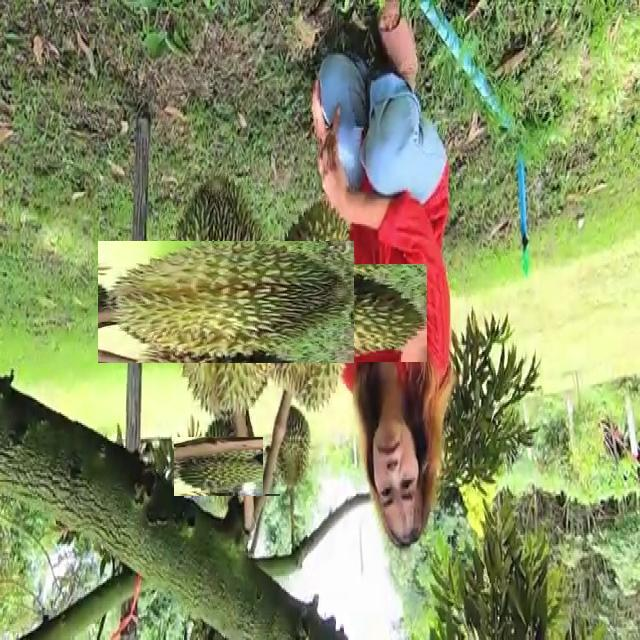durian: (131, 207, 321, 396), (232, 231, 395, 394), (185, 425, 269, 509), (263, 407, 313, 494)
